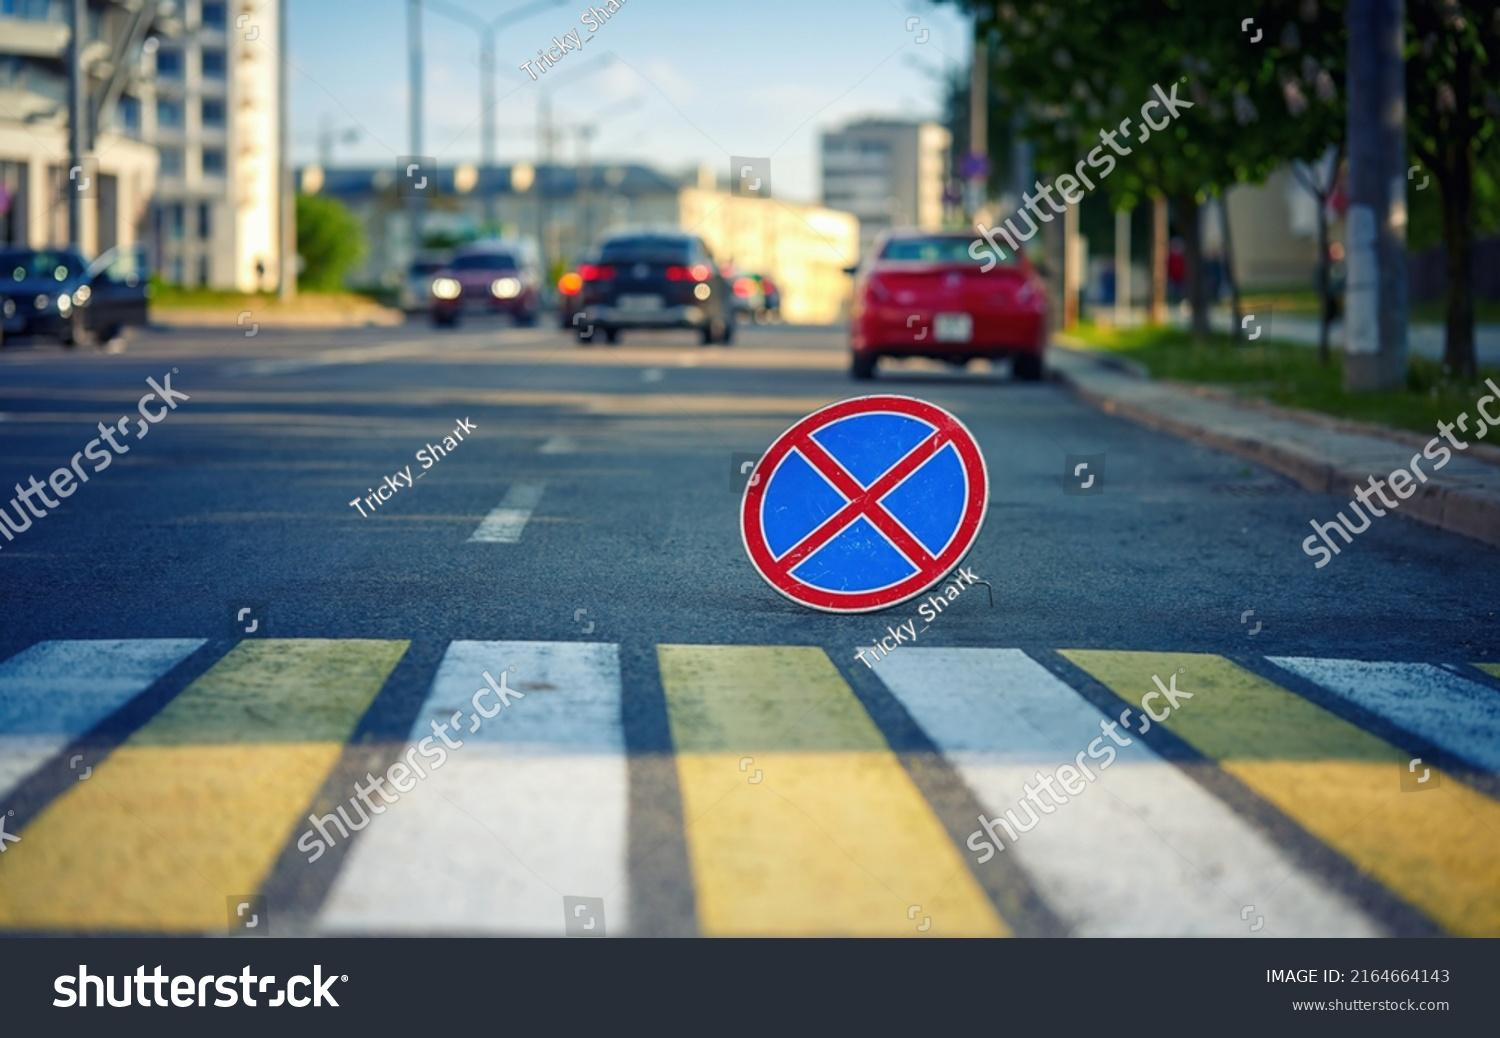No Stopping: (660, 343, 1066, 636)
